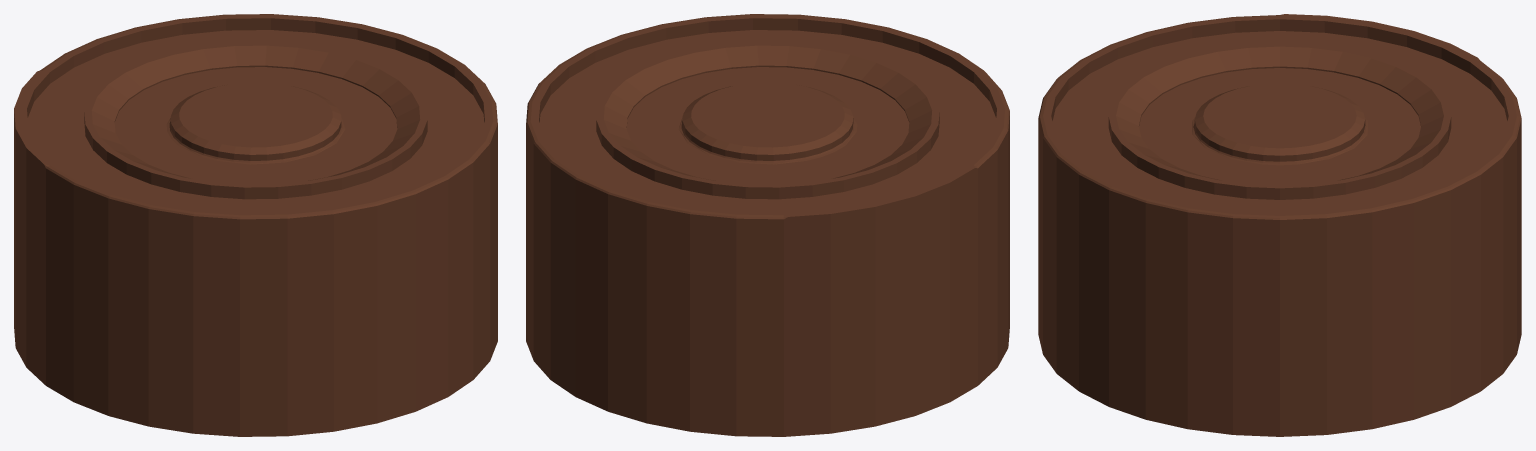
File: wood_wall.fbx
3 views of the same model, side by side, from view 1: azimuth 30°, elevation 25°; view 2: azimuth 150°, elevation 25°; view 3: azimuth 270°, elevation 25° (orthographic).
Parts seen in each view (by area): view 1: wood_wall_body; view 2: wood_wall_body; view 3: wood_wall_body.
Boxes of the visible parts, x1=… form: wood_wall_body: x1=14, y1=14, x2=497, y2=436; wood_wall_body: x1=526, y1=14, x2=1009, y2=436; wood_wall_body: x1=1038, y1=14, x2=1521, y2=436.
Bounding box in the file's own units: 4 × 2 × 4.
Materials: 1 (1 with a texture image).
